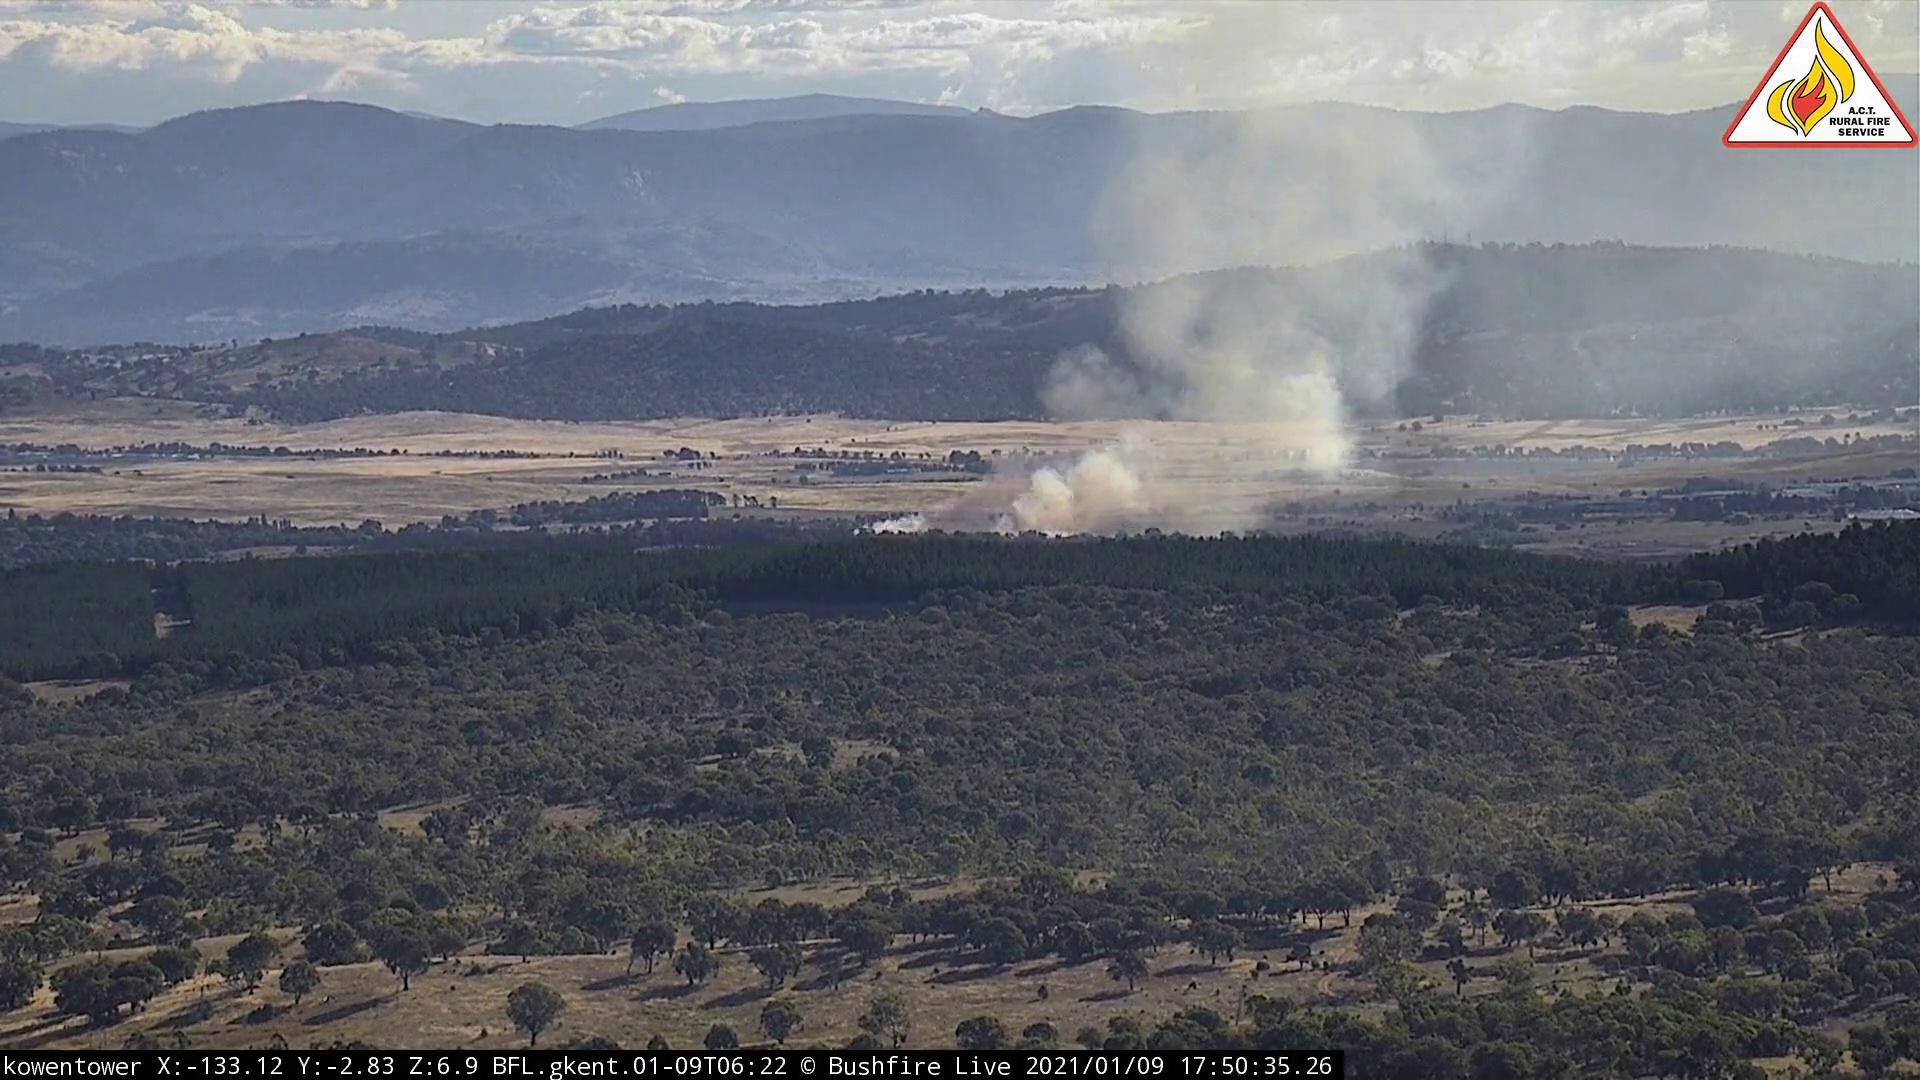Smoke: (868, 3, 1714, 546)
